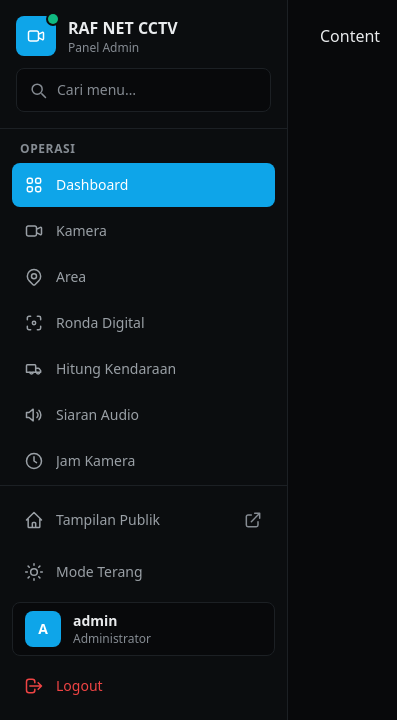
Test: AdminLayout shell › explains an empty search result instead of showing a blank sidebar
In the search field named "Cari menu admin": (144, 90) [16,68,271,112], type "zzz"
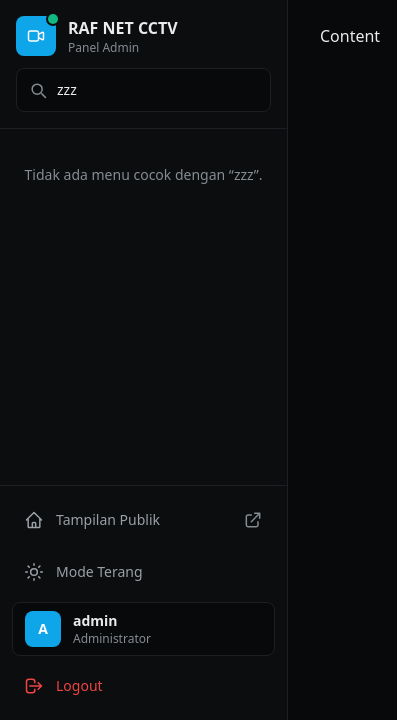
Result: the text "Tidak ada menu cocok dengan “zzz”." is shown at [25,165,262,184]
